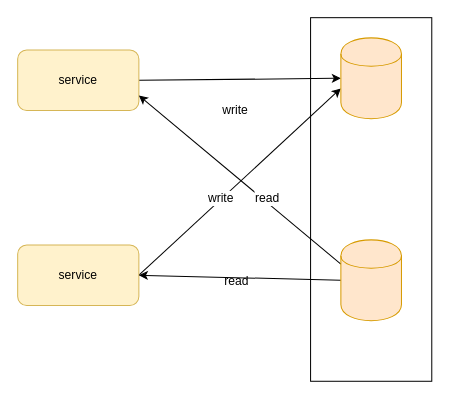
This 449x399 diagram has some shape labels left out. The shapes that lost their labels are listed below. From the top down, each one's box as (x1, y1, x2, y2) in pixels, then its label:
(340, 37, 401, 119): master
(340, 239, 401, 321): slave
